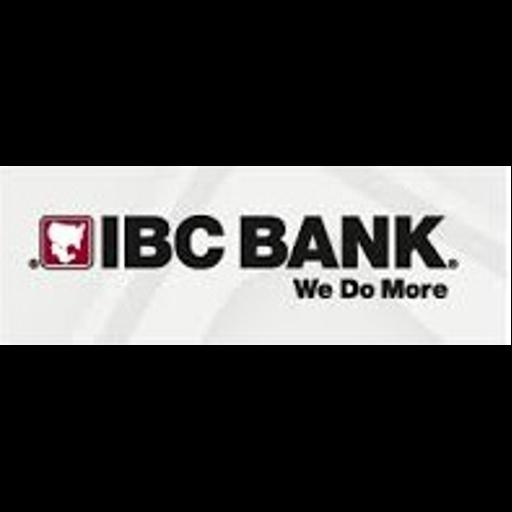IBC Bank: (0, 166, 511, 345)
